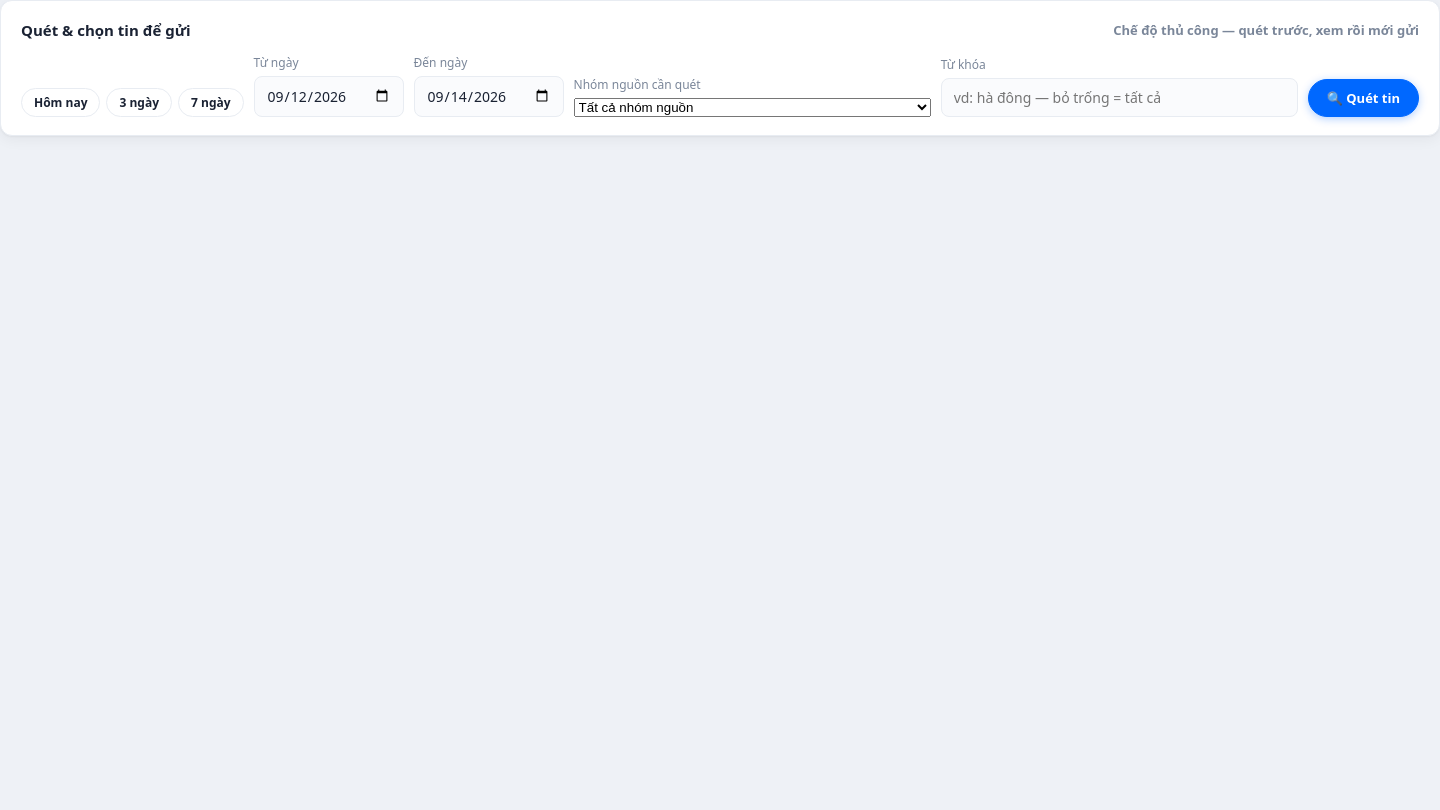
Scenario: lọc giá và hoa hồng trên bảng quét › lọc khoảng giá và HH tối thiểu
Click the button "🔍 Quét tin": (1363,98) [1308,78,1419,116]
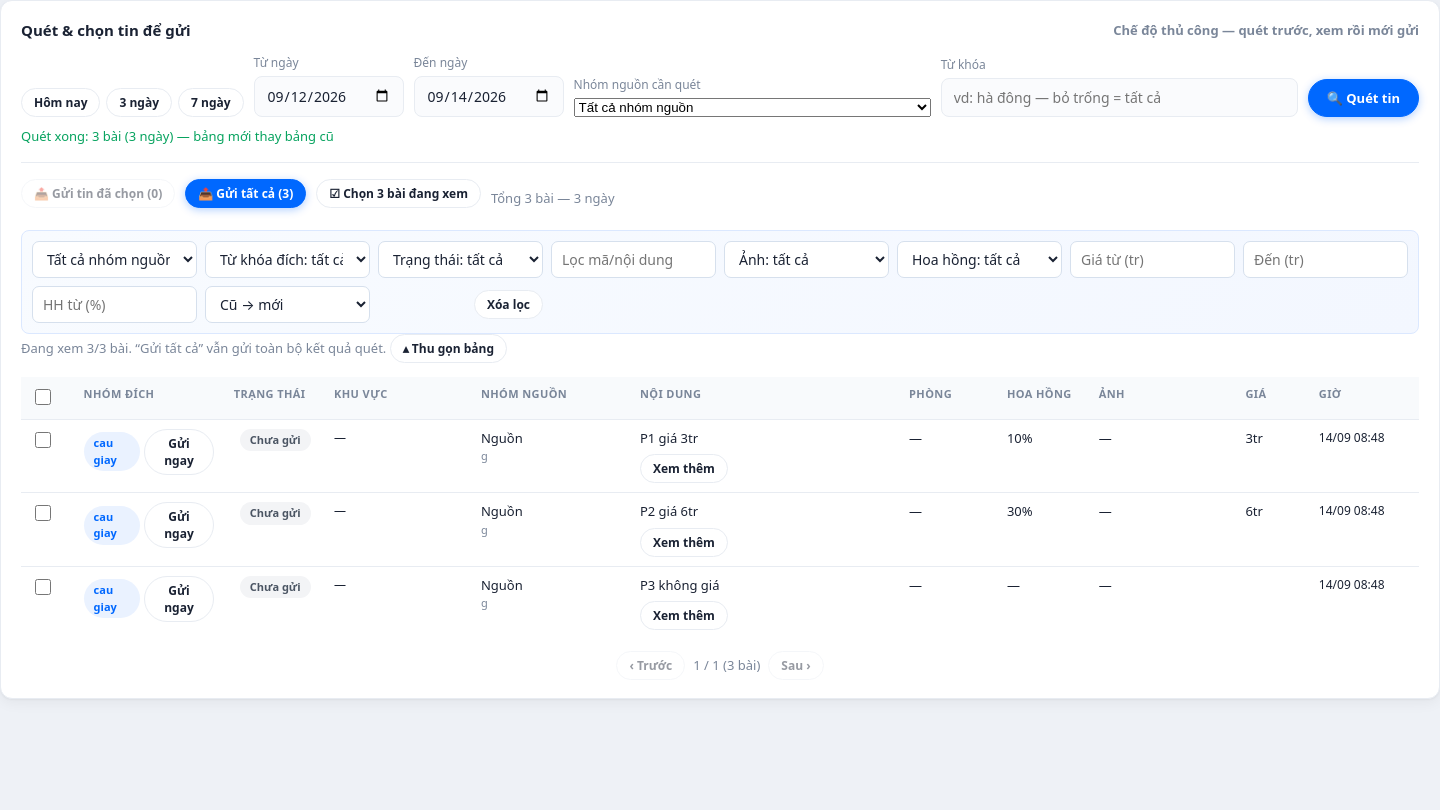
Expected: the text "P1 giá 3tr" is shown, [640,428,698,446]
In the number field named "Giá thấp nhất (triệu)": (1152,260) [1070,241,1235,278], type "4"
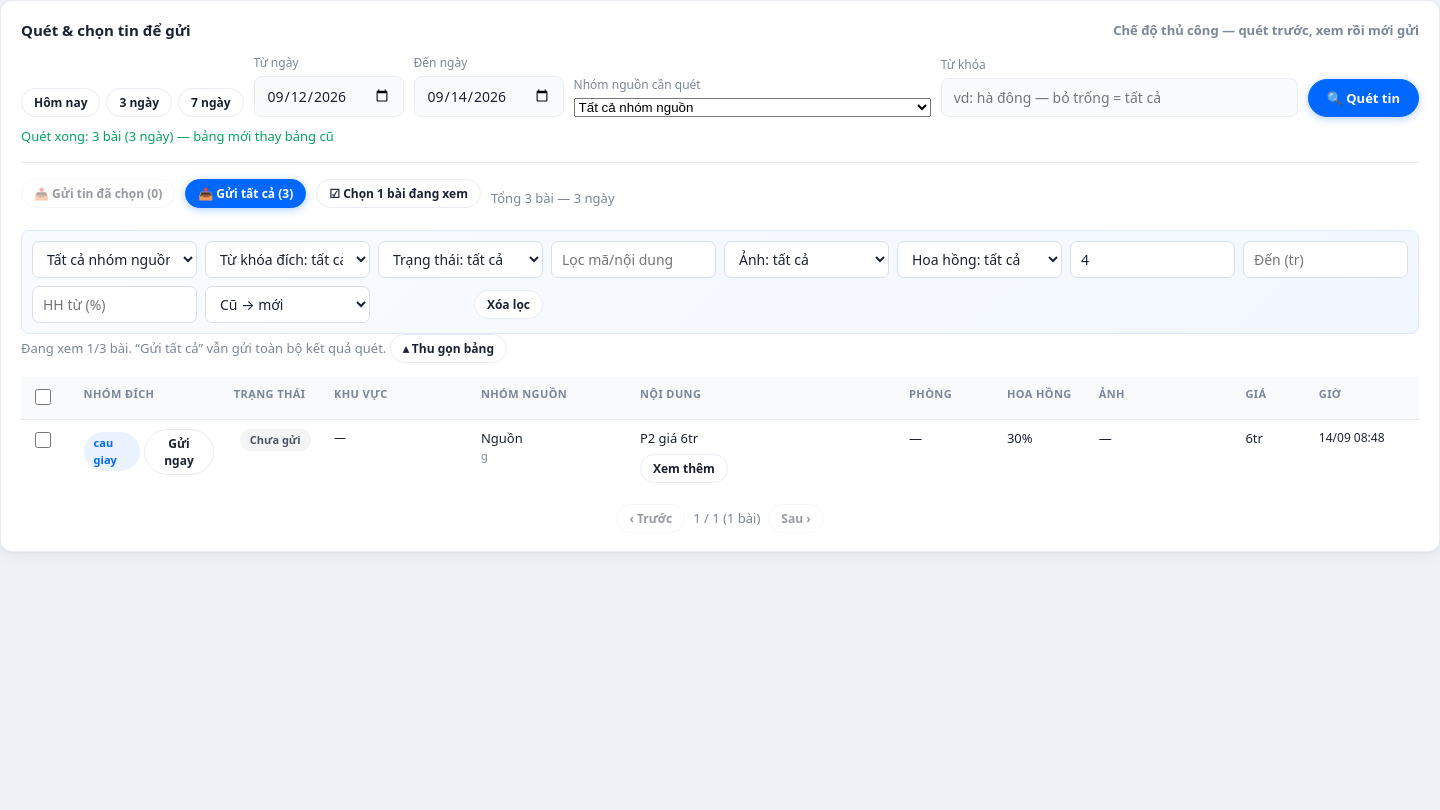
Expected: the text "P2 giá 6tr" is shown, [640,428,698,446]
Expected: the text "P1 giá 3tr" is gone
Expected: the text "P3 không giá" is gone
Clear the number field named "Giá thấp nhất (triệu)": (1152,260) [1070,241,1235,278]
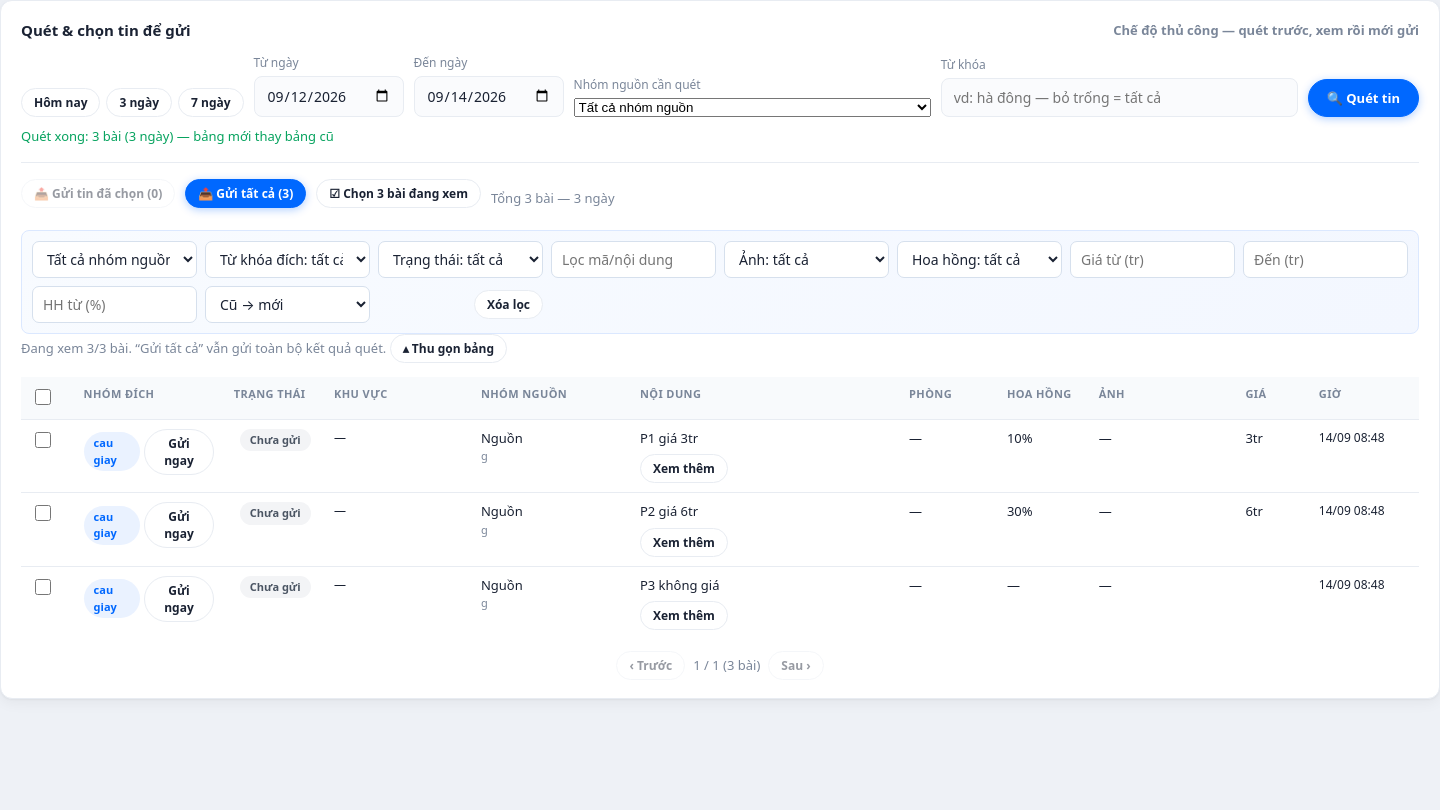
In the number field named "Giá cao nhất (triệu)": (1326,260) [1243,241,1408,278], type "5"
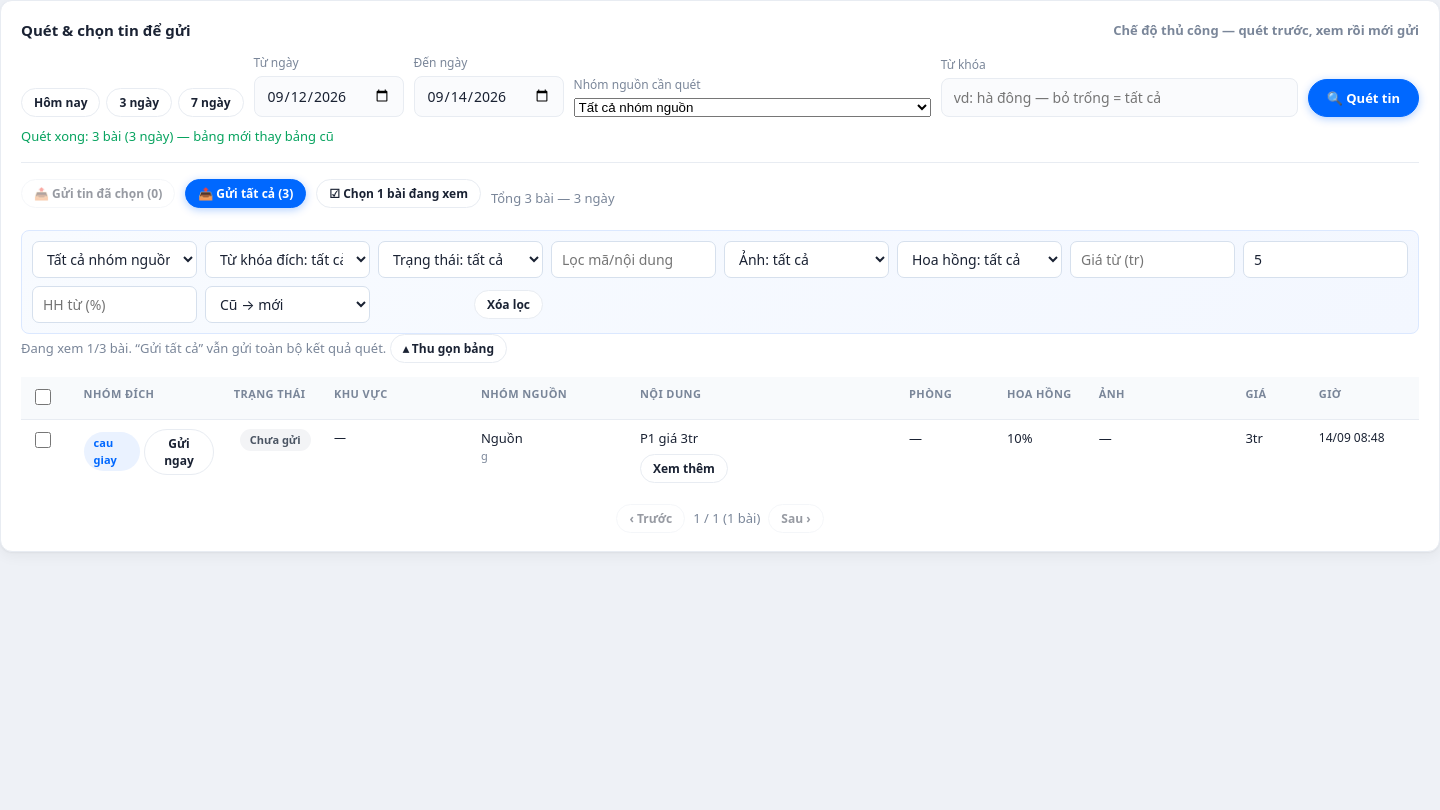
Expected: the text "P1 giá 3tr" is shown, [640,428,698,446]
Expected: the text "P2 giá 6tr" is gone
Clear the number field named "Giá cao nhất (triệu)": (1326,260) [1243,241,1408,278]
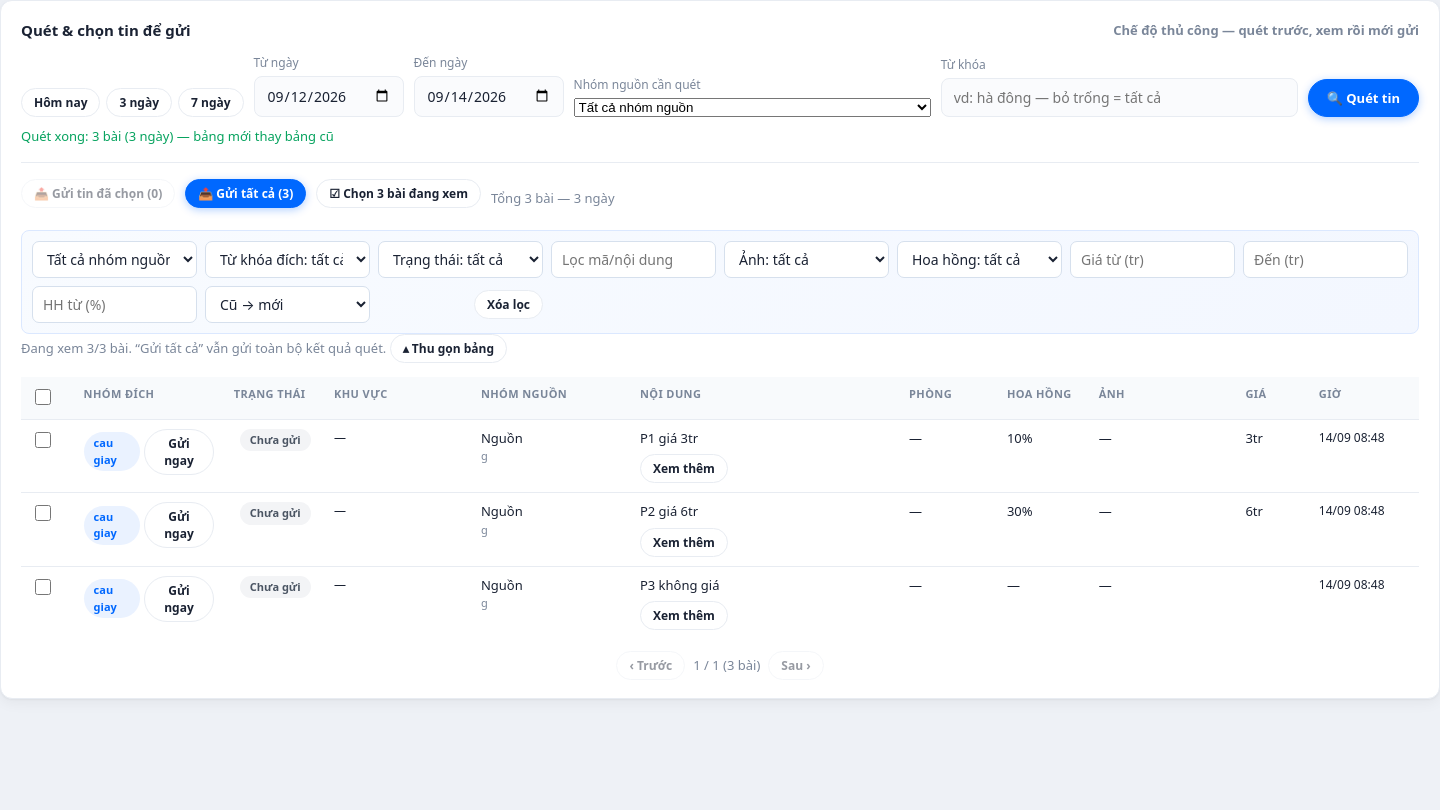
In the number field named "Hoa hồng tối thiểu (%)": (114,304) [32,286,197,323], type "20"
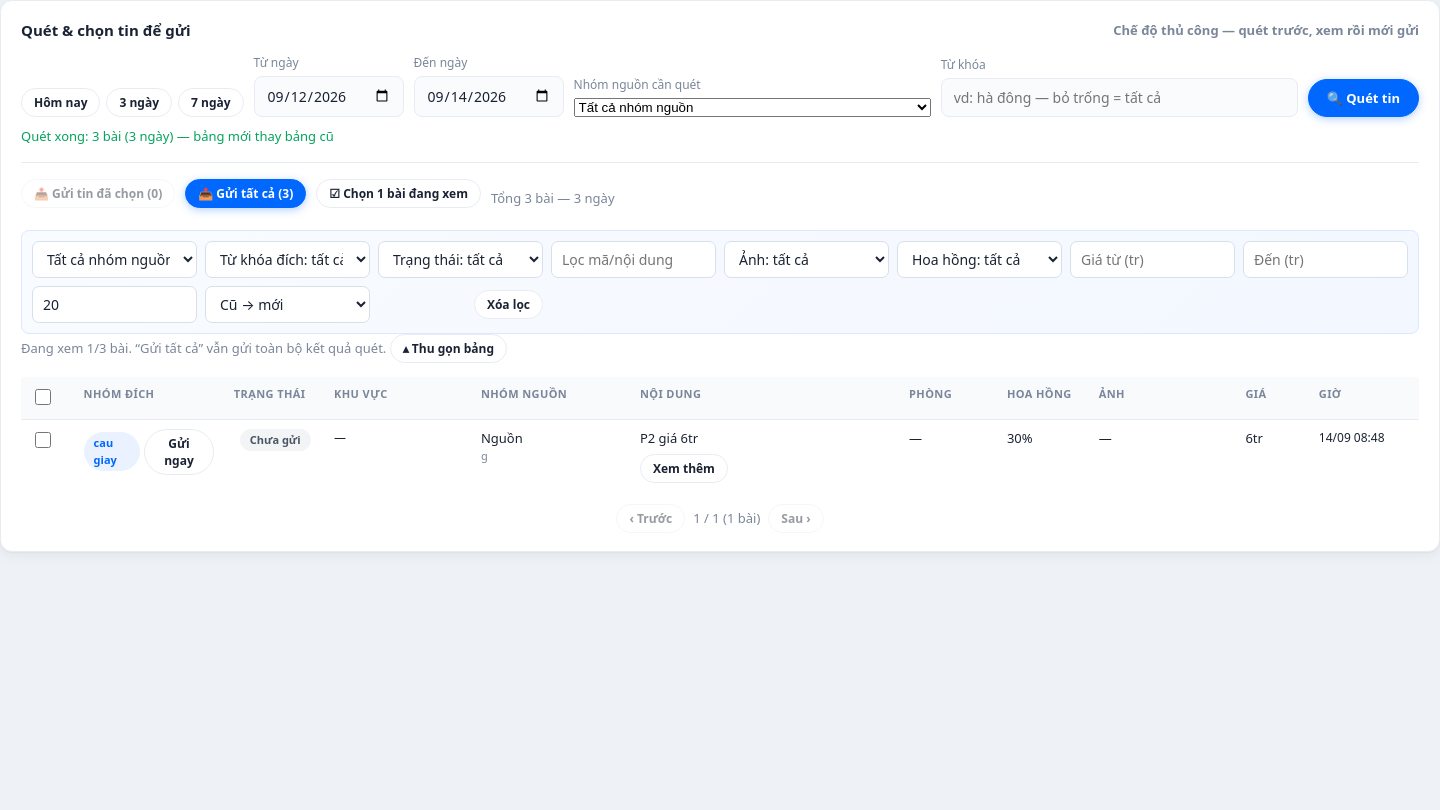
Expected: the text "P2 giá 6tr" is shown, [640,428,698,446]
Expected: the text "P1 giá 3tr" is gone
